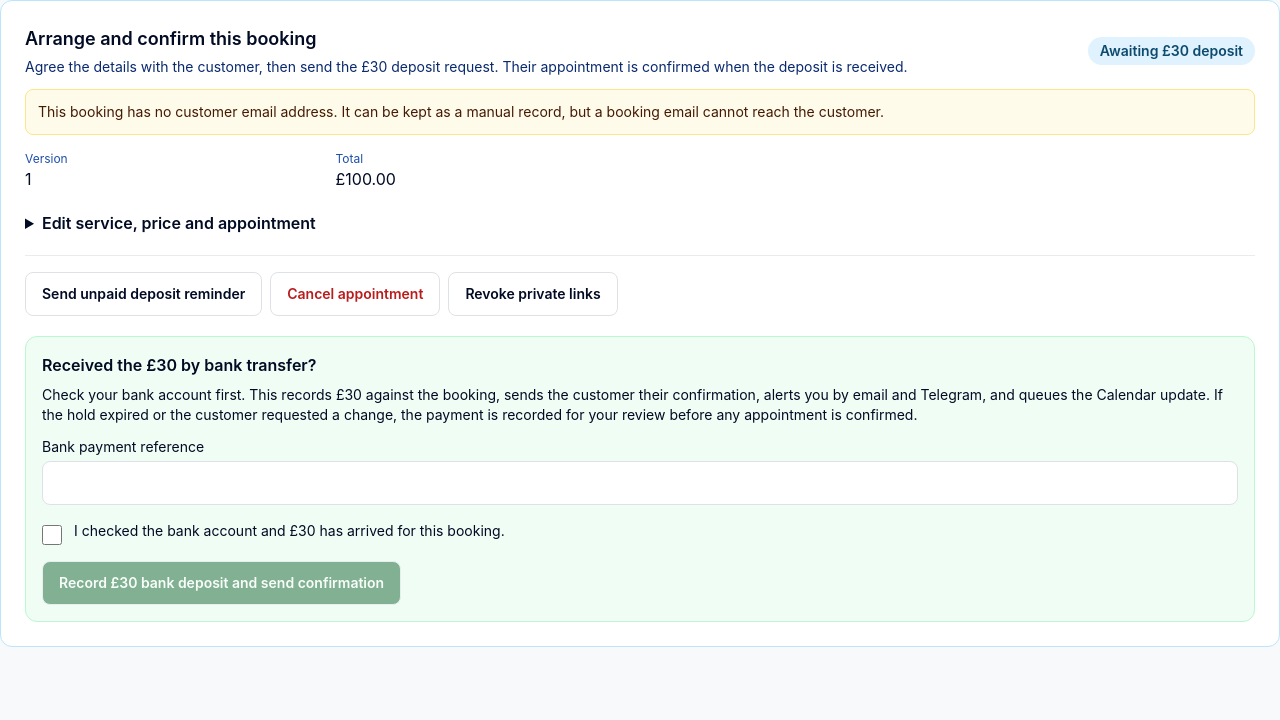
Test: deposit operator controls › offers a reminder only until one is requested
Click the button "Send unpaid deposit reminder" at (144, 294), box [25, 272, 262, 316]
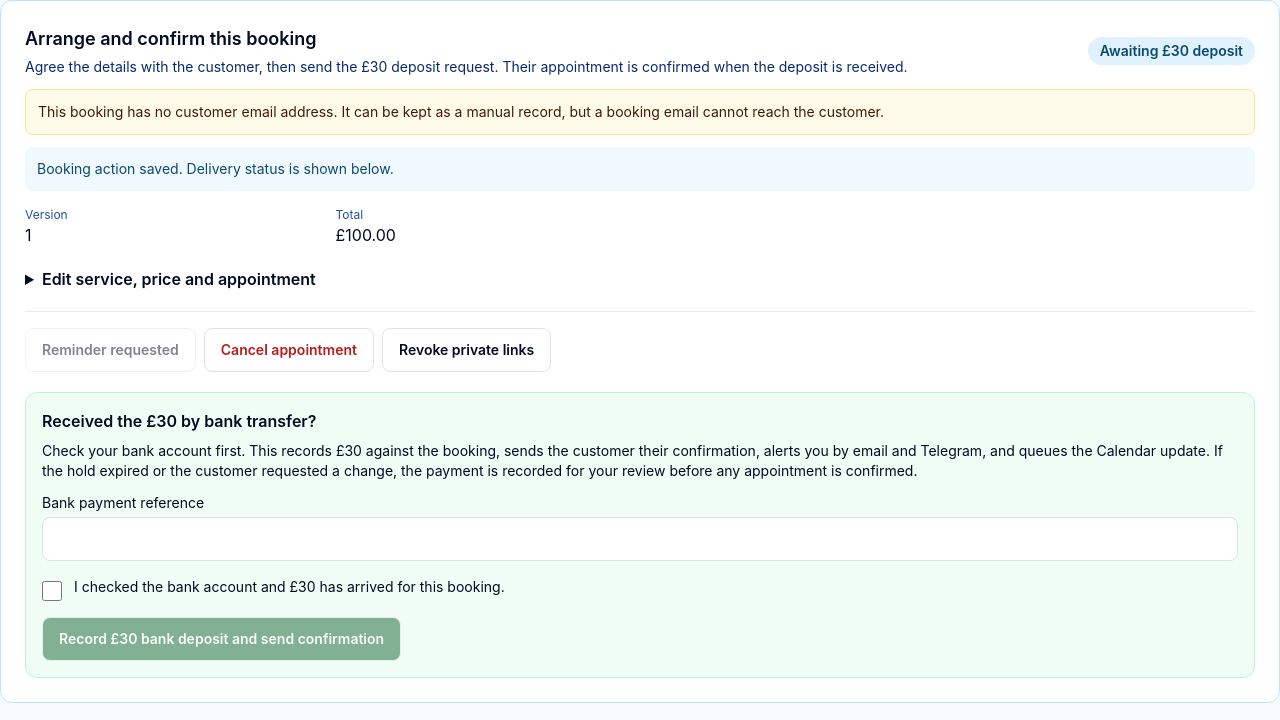
Check: the button "Reminder requested" is disabled, box [25, 328, 196, 372]
